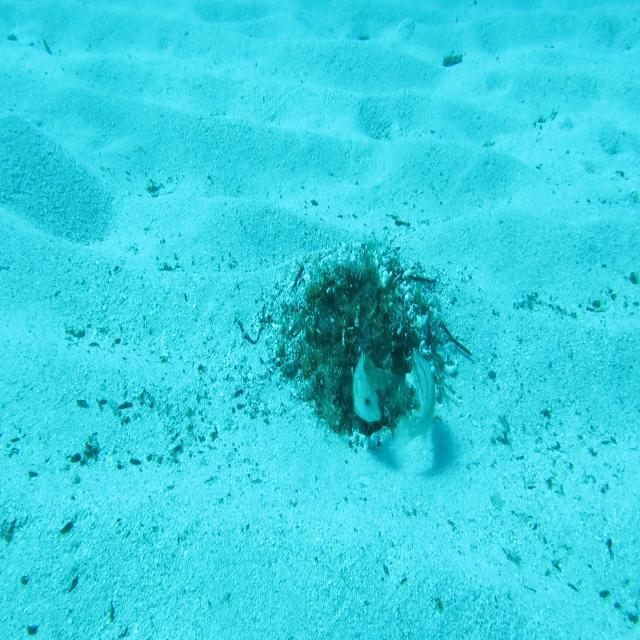DAN_CIRC: (346, 347, 408, 424)
core_nest: (334, 284, 382, 330)
female: (391, 348, 438, 451)
nest: (257, 233, 468, 469)
vegetation: (441, 50, 465, 70)
